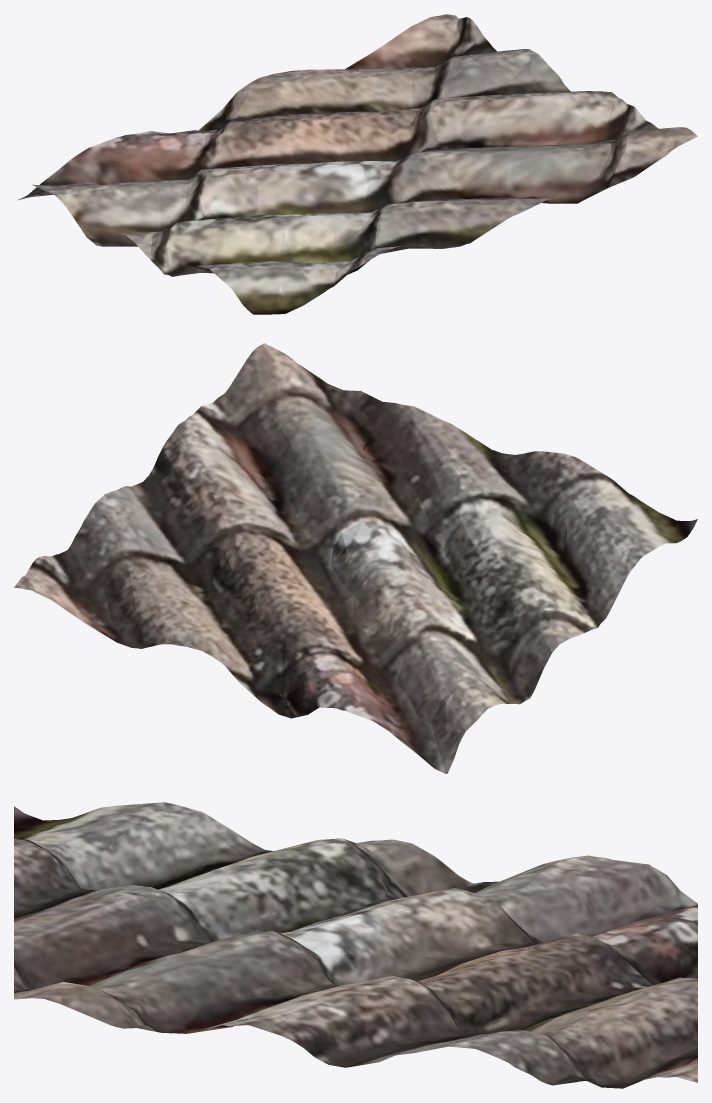
3 views of the same model, one above another, from view 1: azimuth 30°, elevation 25°; view 2: azimuth 150°, elevation 25°; view 3: azimuth 270°, elevation 25° (orthographic). The views are drawn at different scales.
Bounding box in the file's own units: 0.8374 × 0.2645 × 0.8374.
3 materials, 3 textured.
